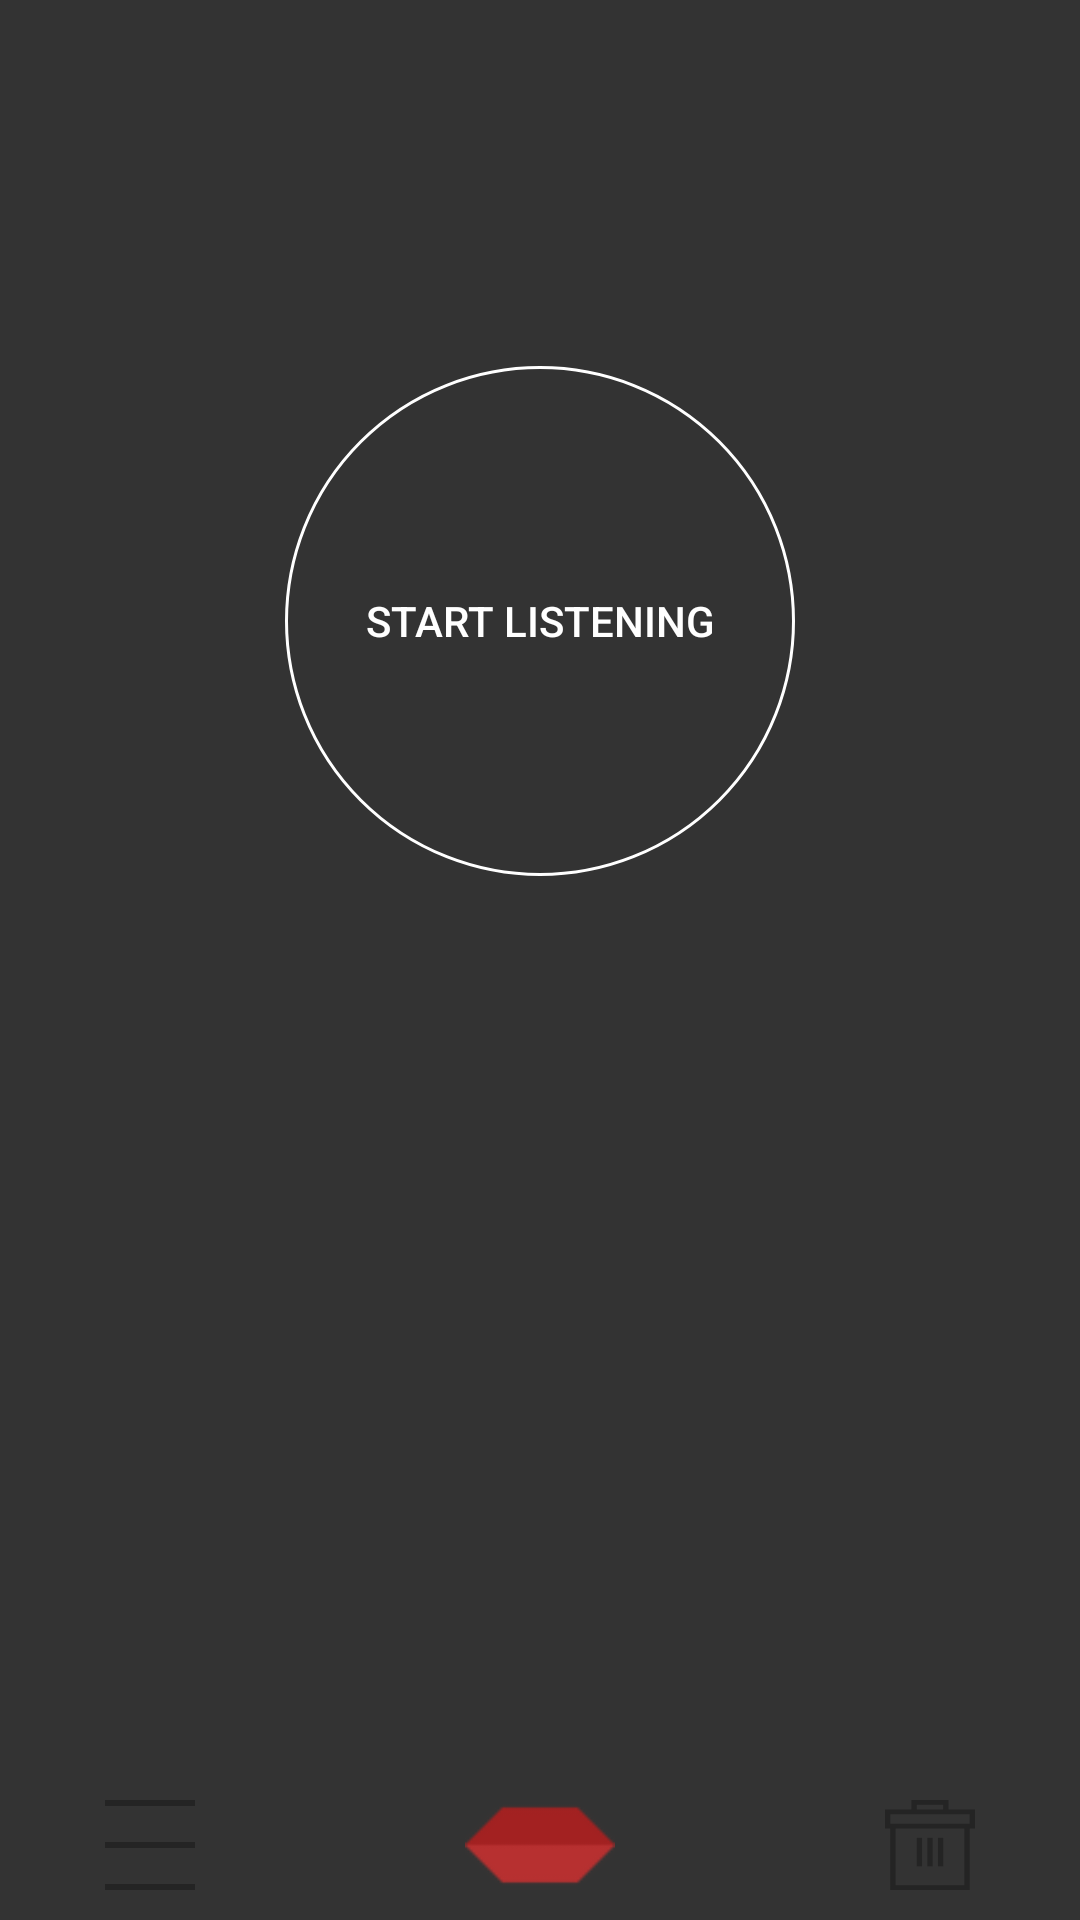

Screen size 1080 × 1920. Icon name, then its box in pixels as [x1, y1, x2, y2]:
lips pre: [465, 1807, 615, 1883]
